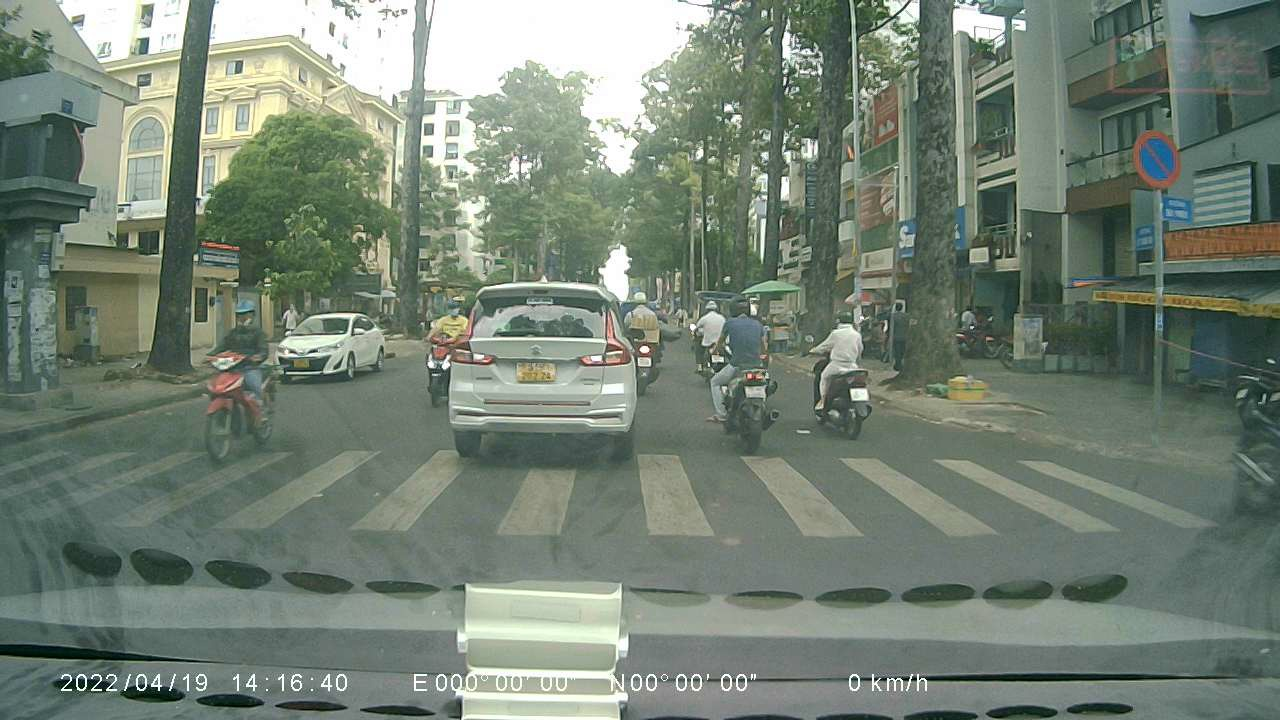Cam do xe: (1133, 128, 1185, 189)
